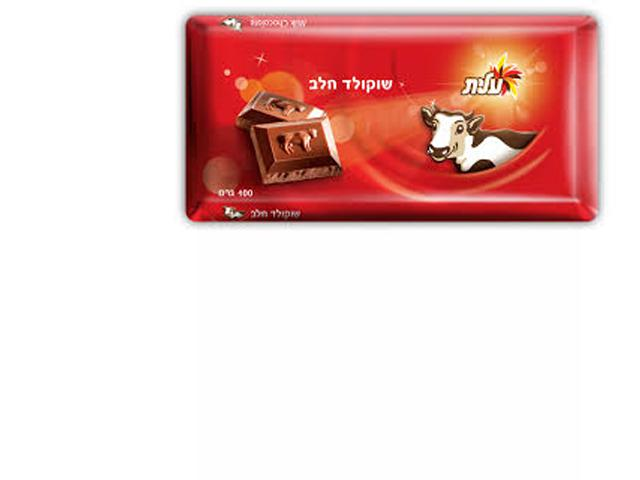chocolate: (177, 12, 620, 236)
